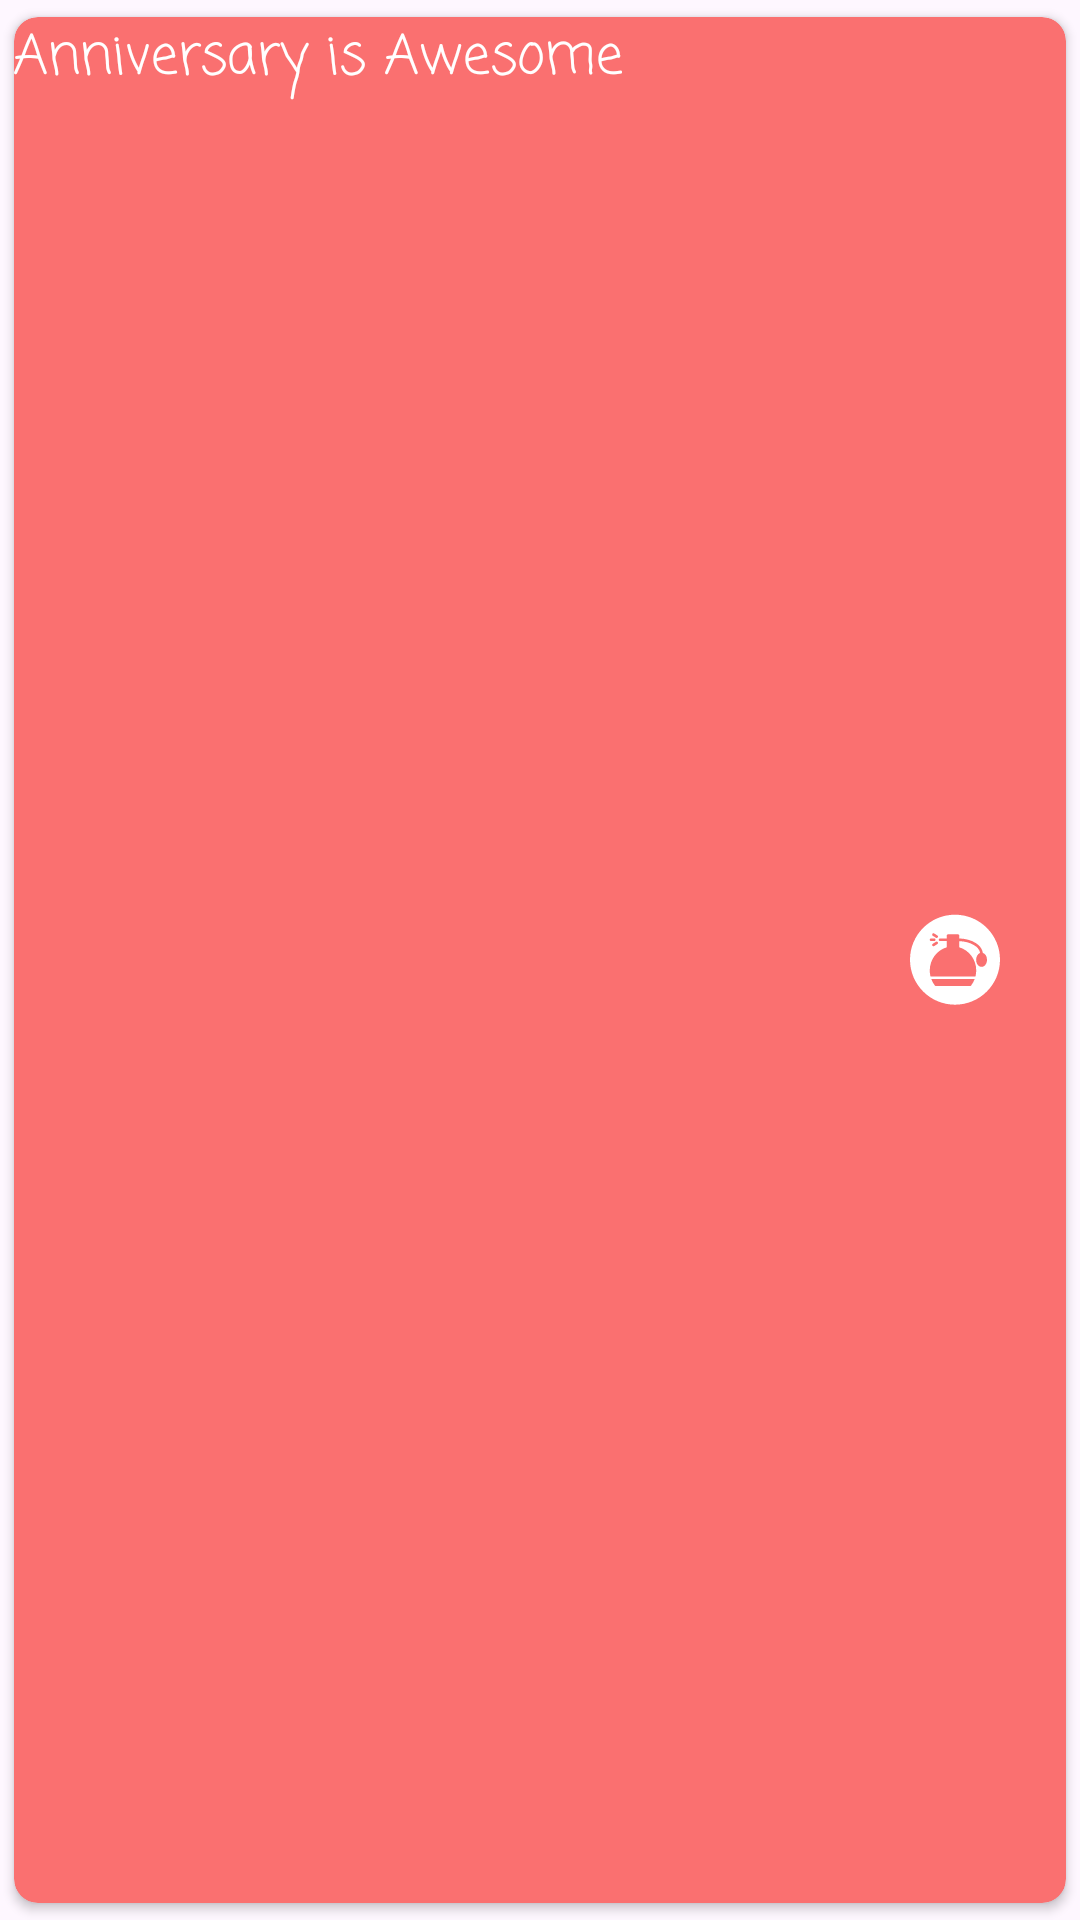

Screen size 1080px x 1920px. Icon name, then its box in pixels as (x1, y1, x2, y2):
fragrance type: (910, 914, 1000, 1005)
